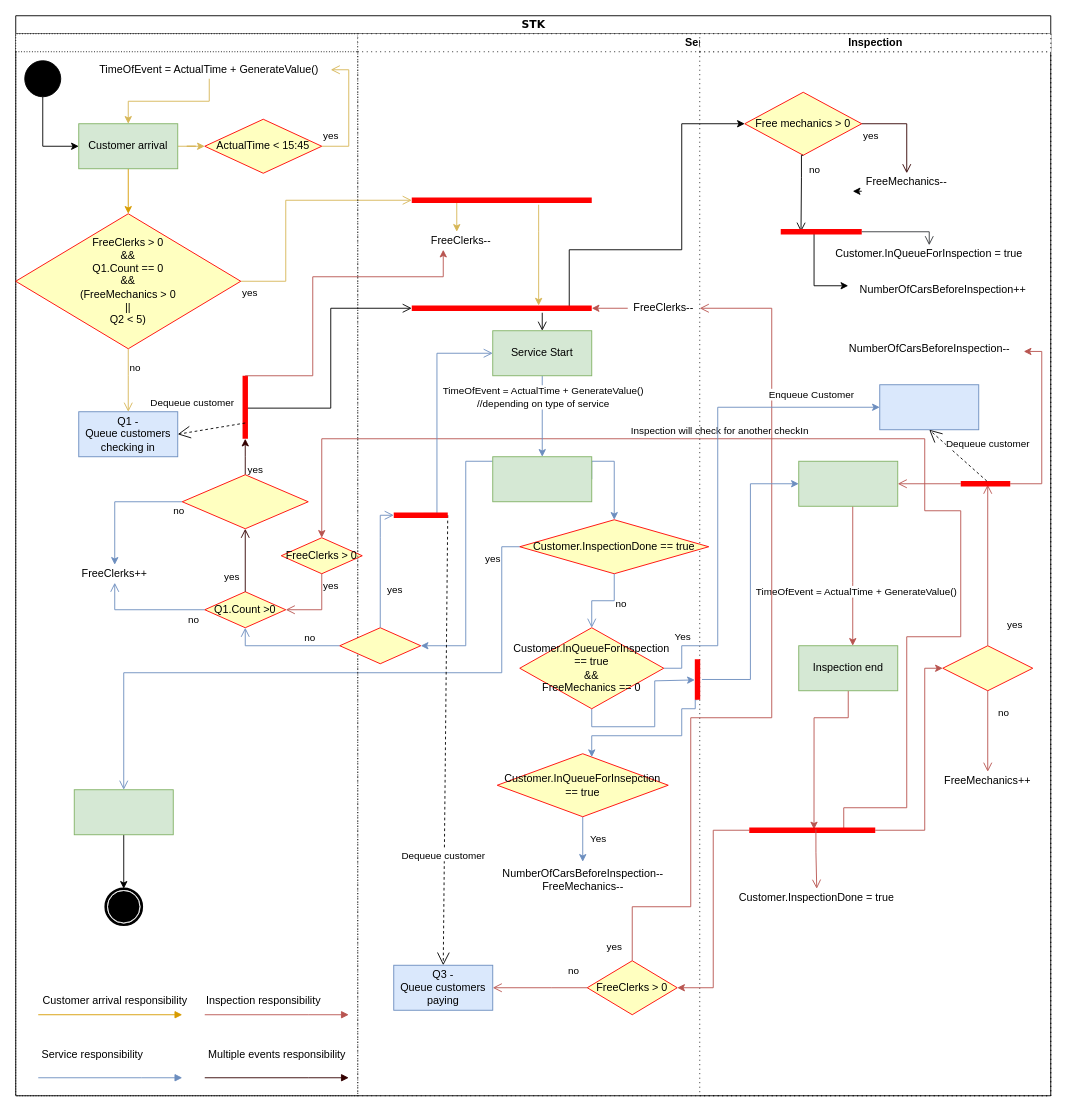
The diagram is 1067 pixels wide and 1112 high, and some of its shapes have lost their labels. Here are the shapes that lost their labels. From the top down, the box of each, then its label:
(879, 384, 979, 430): Q2 - Queue cars waiting for inspection
(492, 456, 592, 502): Service end
(798, 460, 898, 506): Inspection start
(181, 474, 308, 529): FreeMechanics > 0 || Q2 < 5
(15, 33, 358, 1096): Customer arrival/departure
(339, 627, 421, 664): Q3.Count > 0
(942, 645, 1033, 691): Q2.Count > 0
(73, 789, 173, 835): Customer departure
